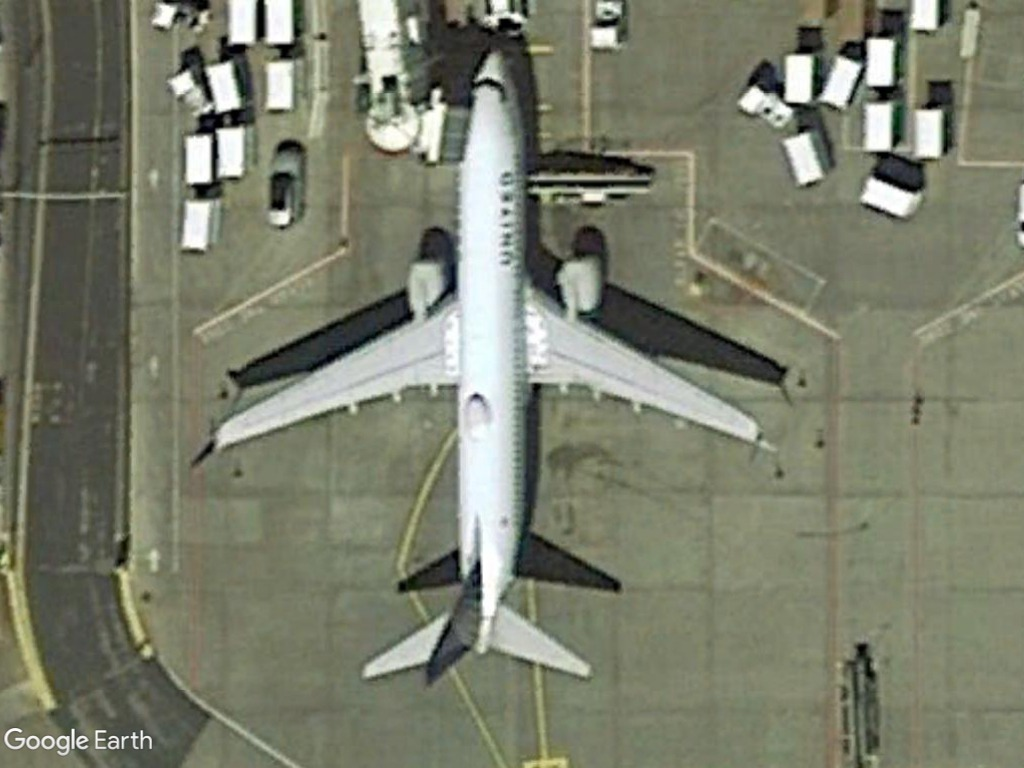airliner: (201, 35, 780, 698)
